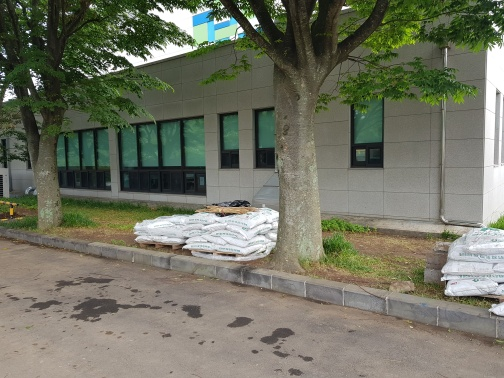Gym: (63, 24, 500, 235)
